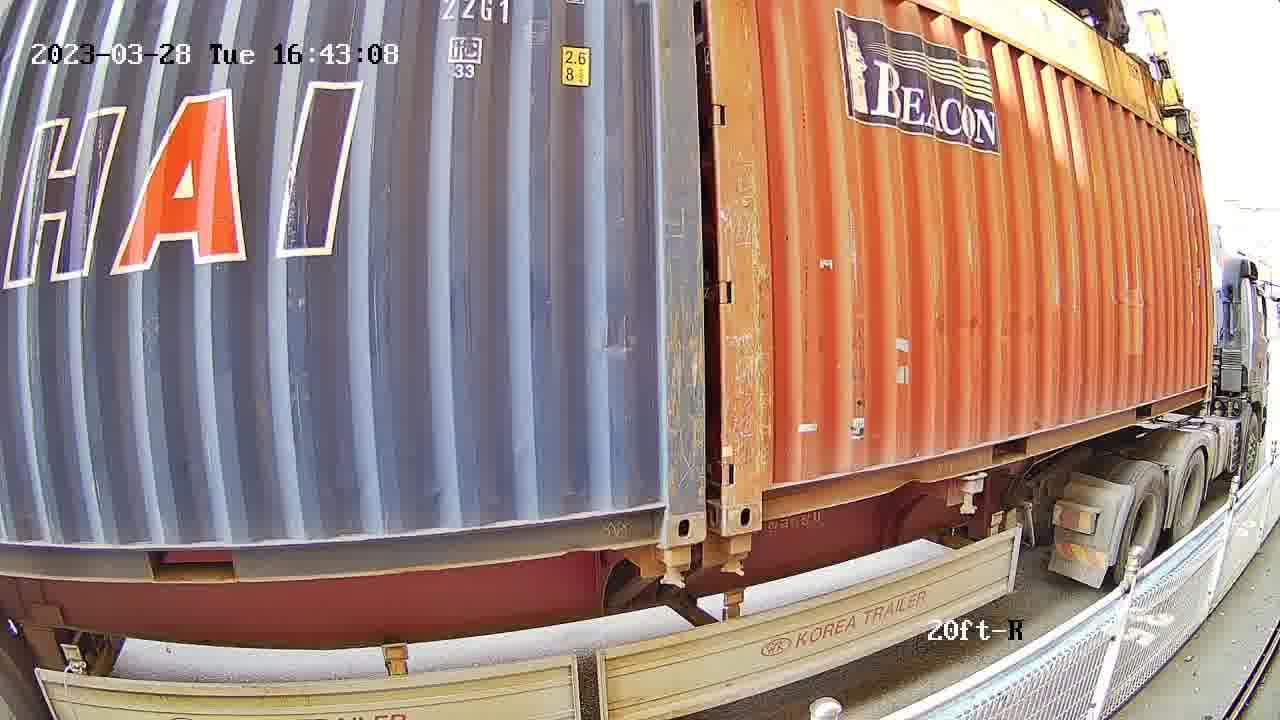Cone: (652, 546, 695, 590), (718, 534, 754, 580)
Hole_L: (724, 463, 790, 536)
Hole_R: (627, 473, 705, 552)
Tire: (1119, 467, 1166, 575), (1175, 450, 1206, 542)
